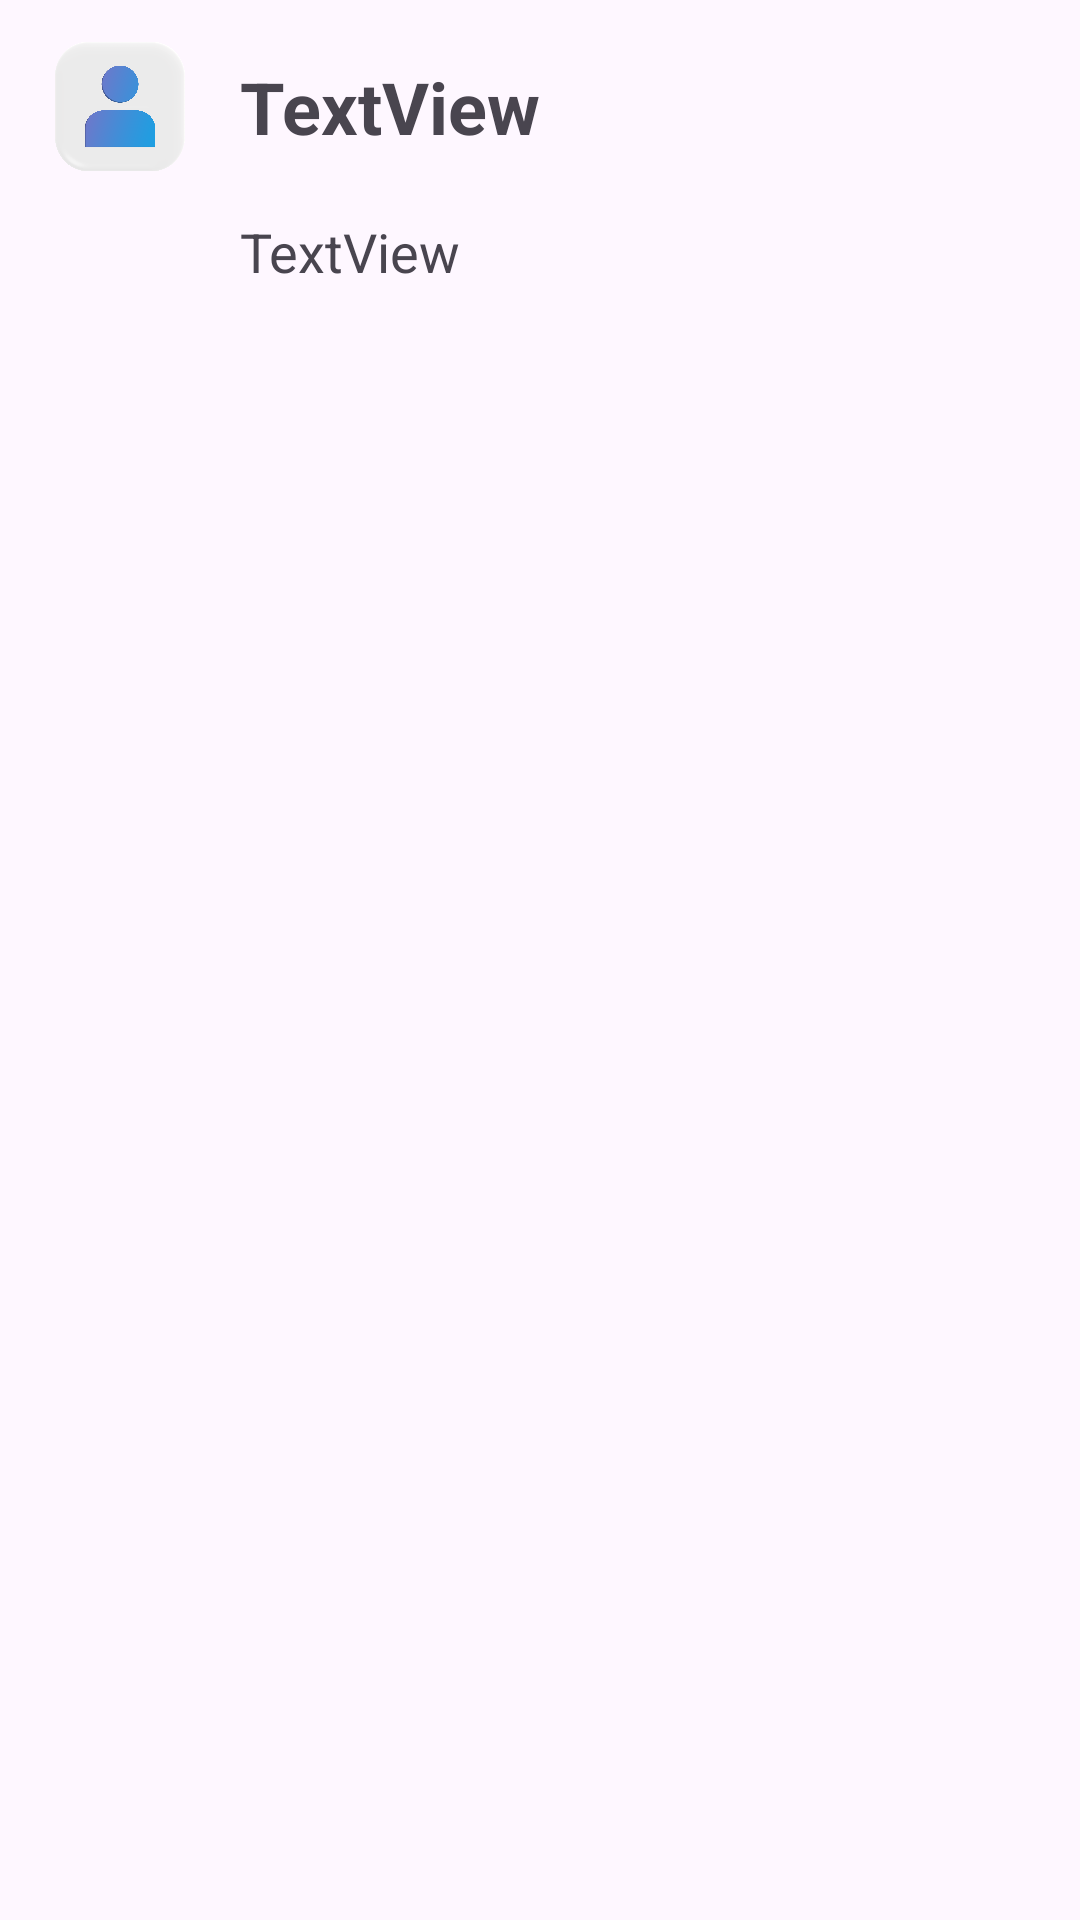

Where to tap for icons on this 1080x1920 app screen, as point (x, y):
user: point (120, 106)
